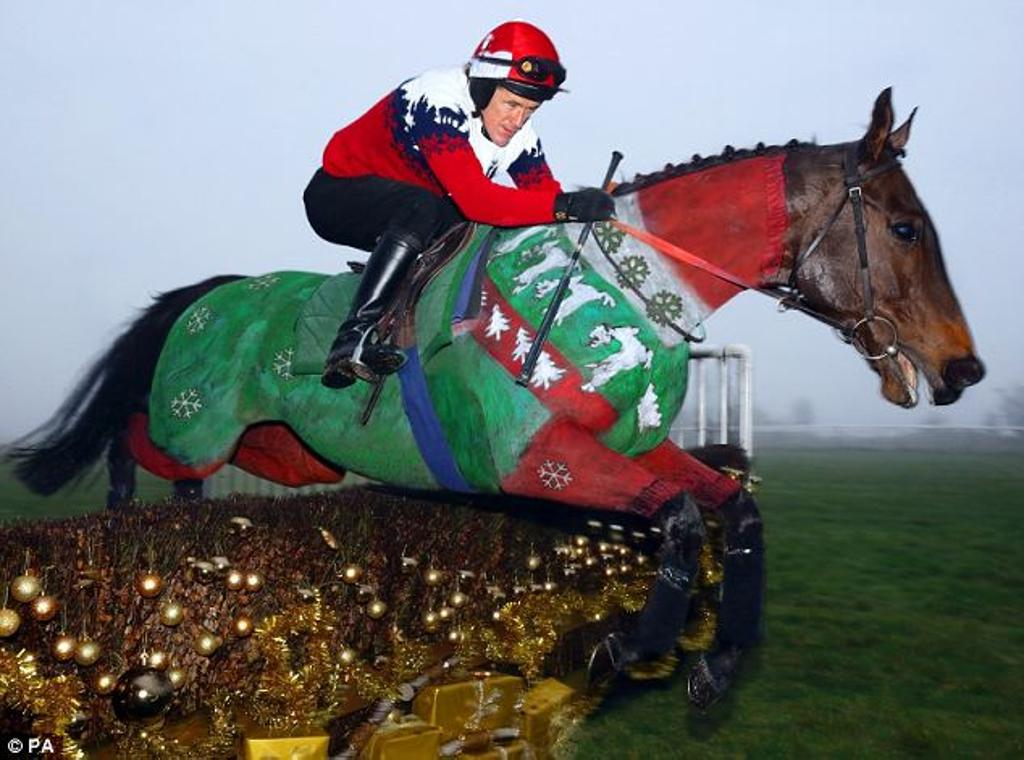face: (487, 67, 541, 143)
